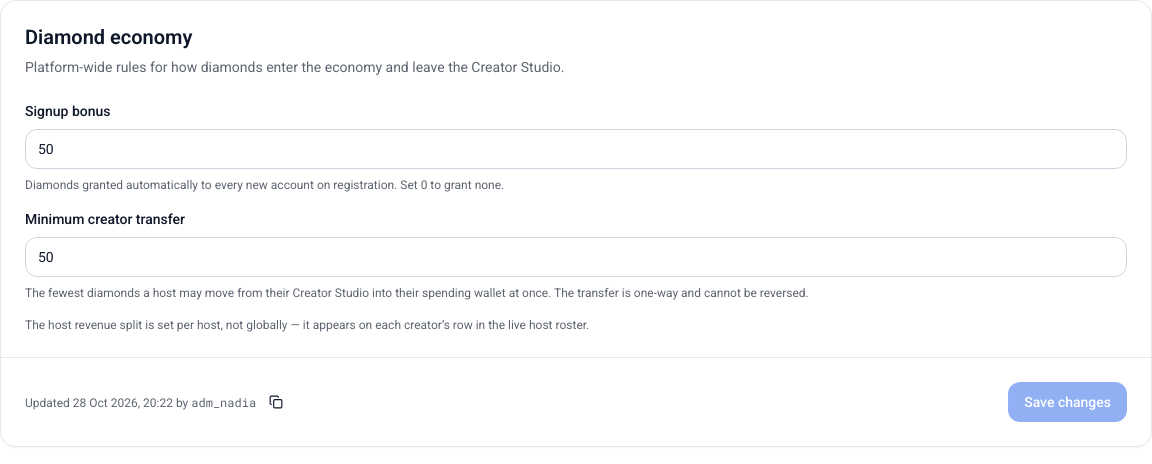
Test case: saving › catches a slipped digit before it reaches every new registration
Replace the text in the field labelled "Signup bonus" with "500000". click: (576, 149)
box: [25, 129, 1127, 169]
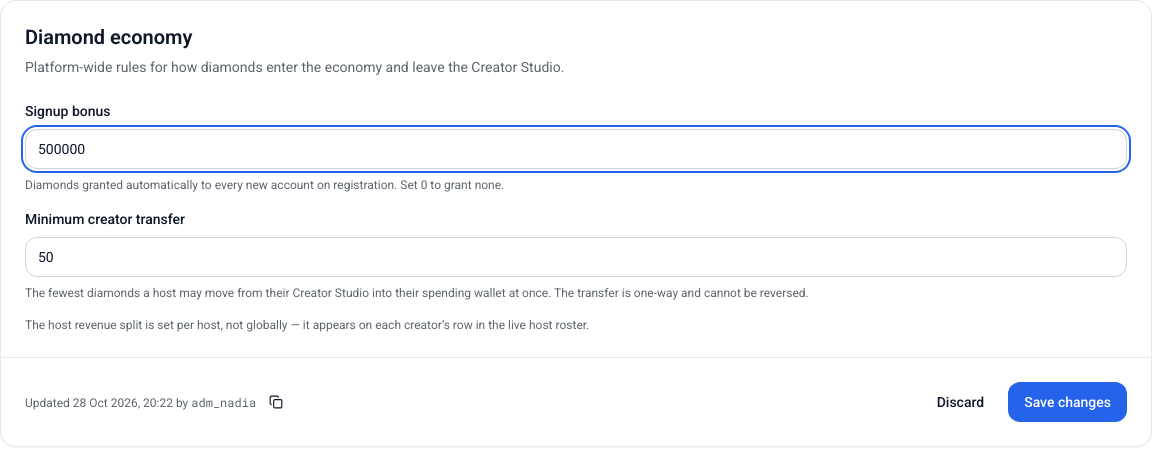
Click the button "Save changes". click: (1068, 402)
box: [1008, 382, 1127, 422]
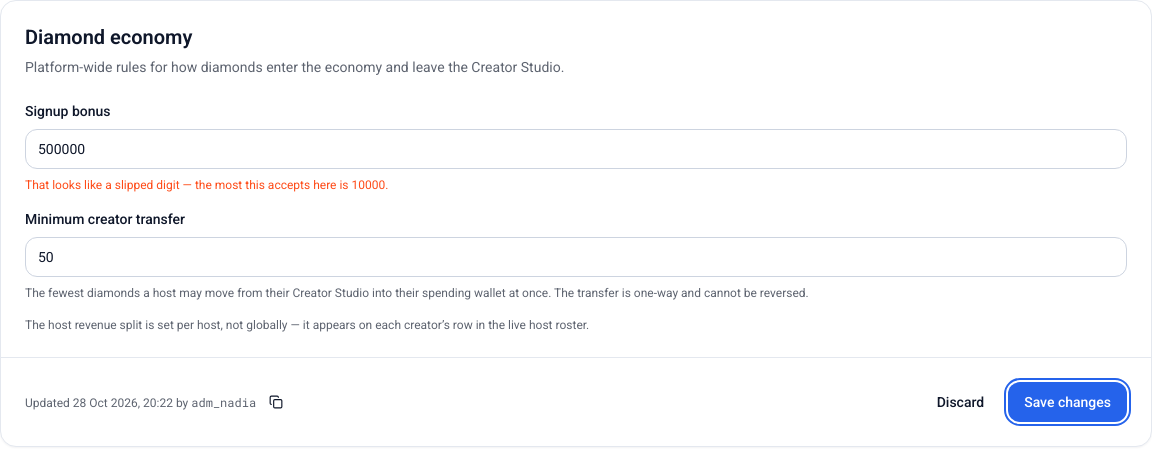
Now the text "That looks like a slipped digit — the most this accepts here is 10000." is shown, box [25, 178, 388, 192]
